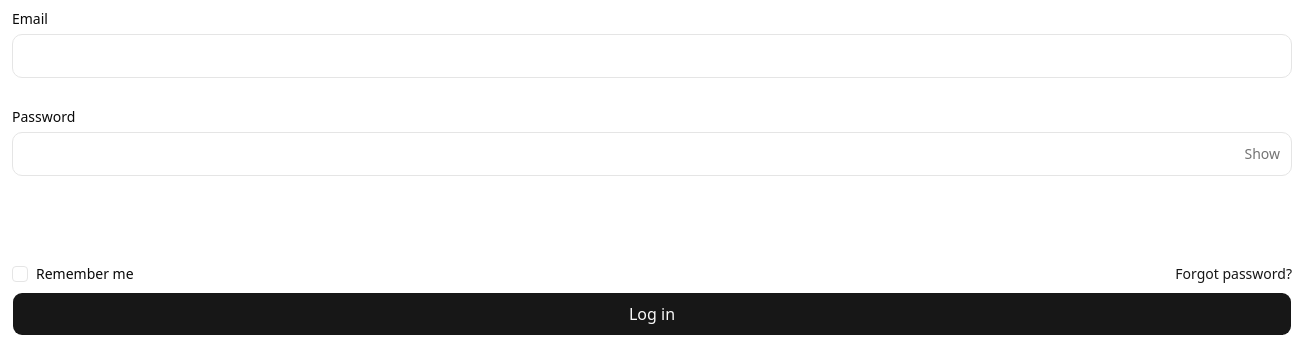
it: LoginSection › shows a pending state while login is submitting
The width and height of the screenshot is (1304, 353).
Type "slow@example.com" into the field labelled "Email" at (652, 56), box [12,34,1292,78]
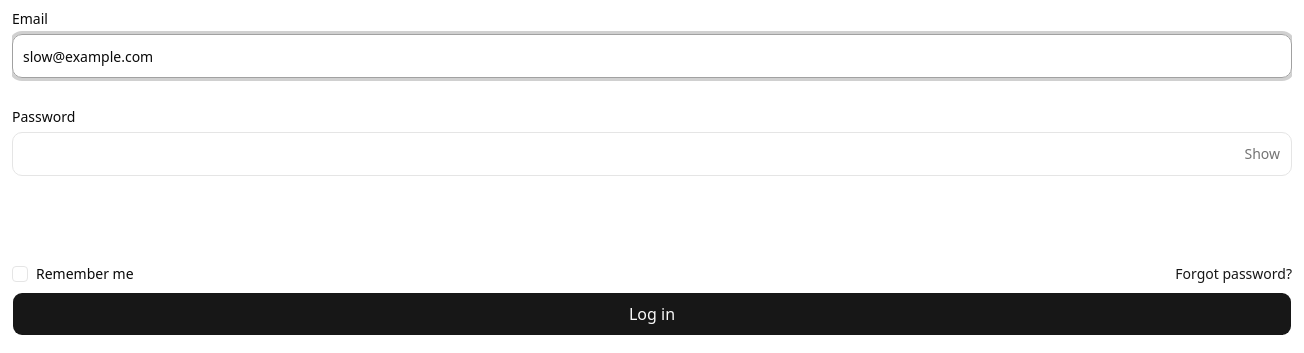
Type "password" into the password field labelled "Password" at (652, 154), box [12,132,1292,176]
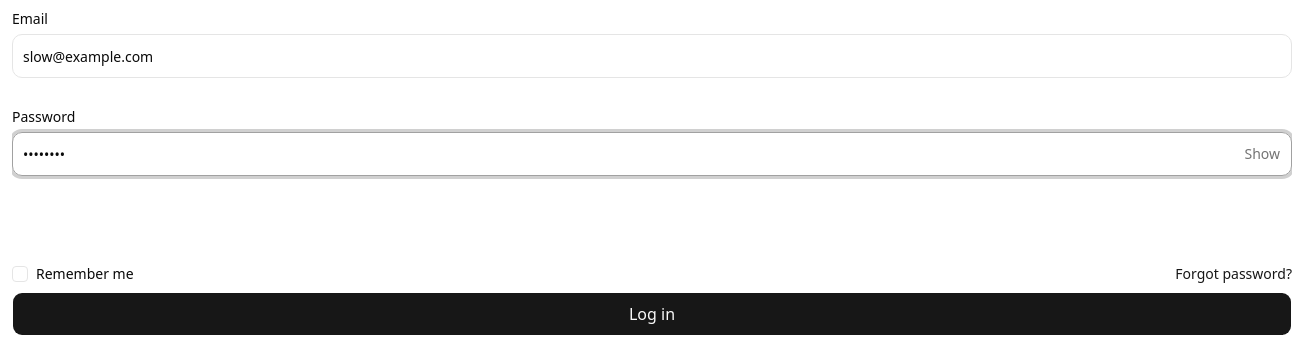
Click the button "Log in" at (652, 314), box [12,292,1292,336]
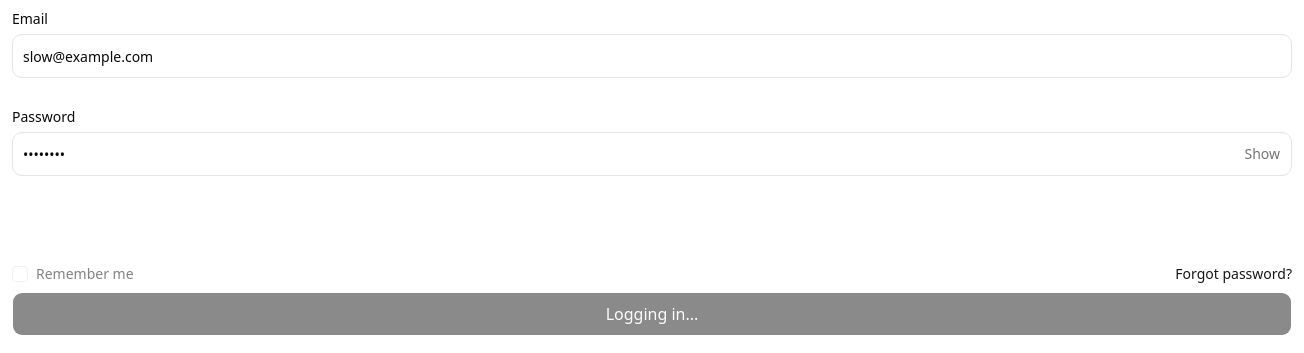
Expected: the button "Logging in..." is disabled, [12,292,1292,336]
